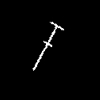double_crochet: (33, 22, 63, 69)
